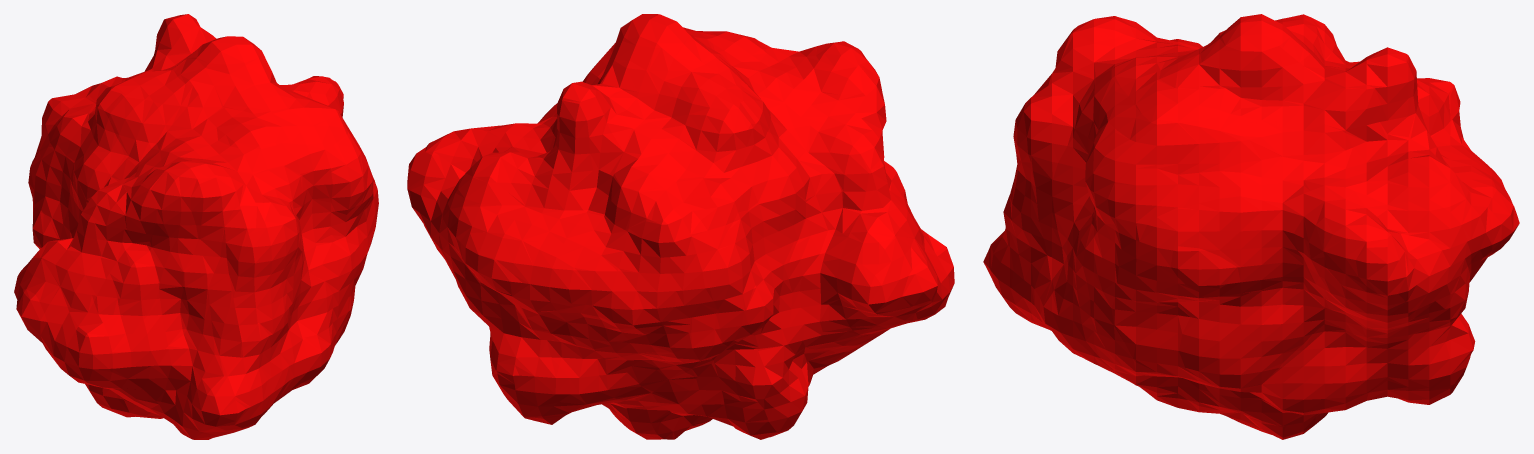
Rendered from prlC_coarse.dae.
3 renders of one model, left to right at view 1: azimuth 30°, elevation 25°; view 2: azimuth 150°, elevation 25°; view 3: azimuth 270°, elevation 25°, orthographic. The views are drawn at different scales.
Parts seen in each view (by area): view 1: prlC; view 2: prlC; view 3: prlC.
Boxes of the visible parts, left/top/right/bottom form: prlC: left=14, top=14, right=378, bottom=439; prlC: left=407, top=14, right=954, bottom=439; prlC: left=983, top=14, right=1519, bottom=439.
Size of the model in its own units: 79.54 by 70.18 by 80.38.
